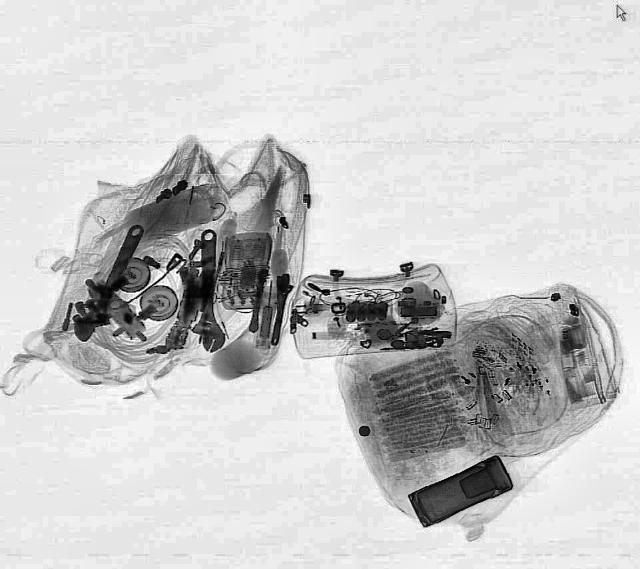Wrench: (64, 220, 154, 346), (192, 229, 224, 353), (264, 272, 294, 346)
